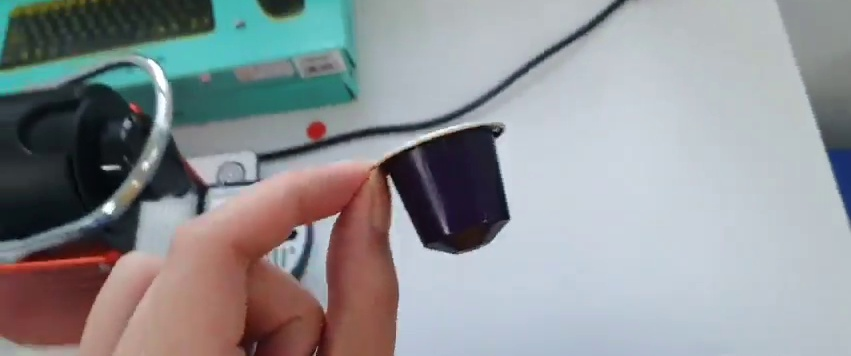capsule_2: (376, 117, 515, 257)
